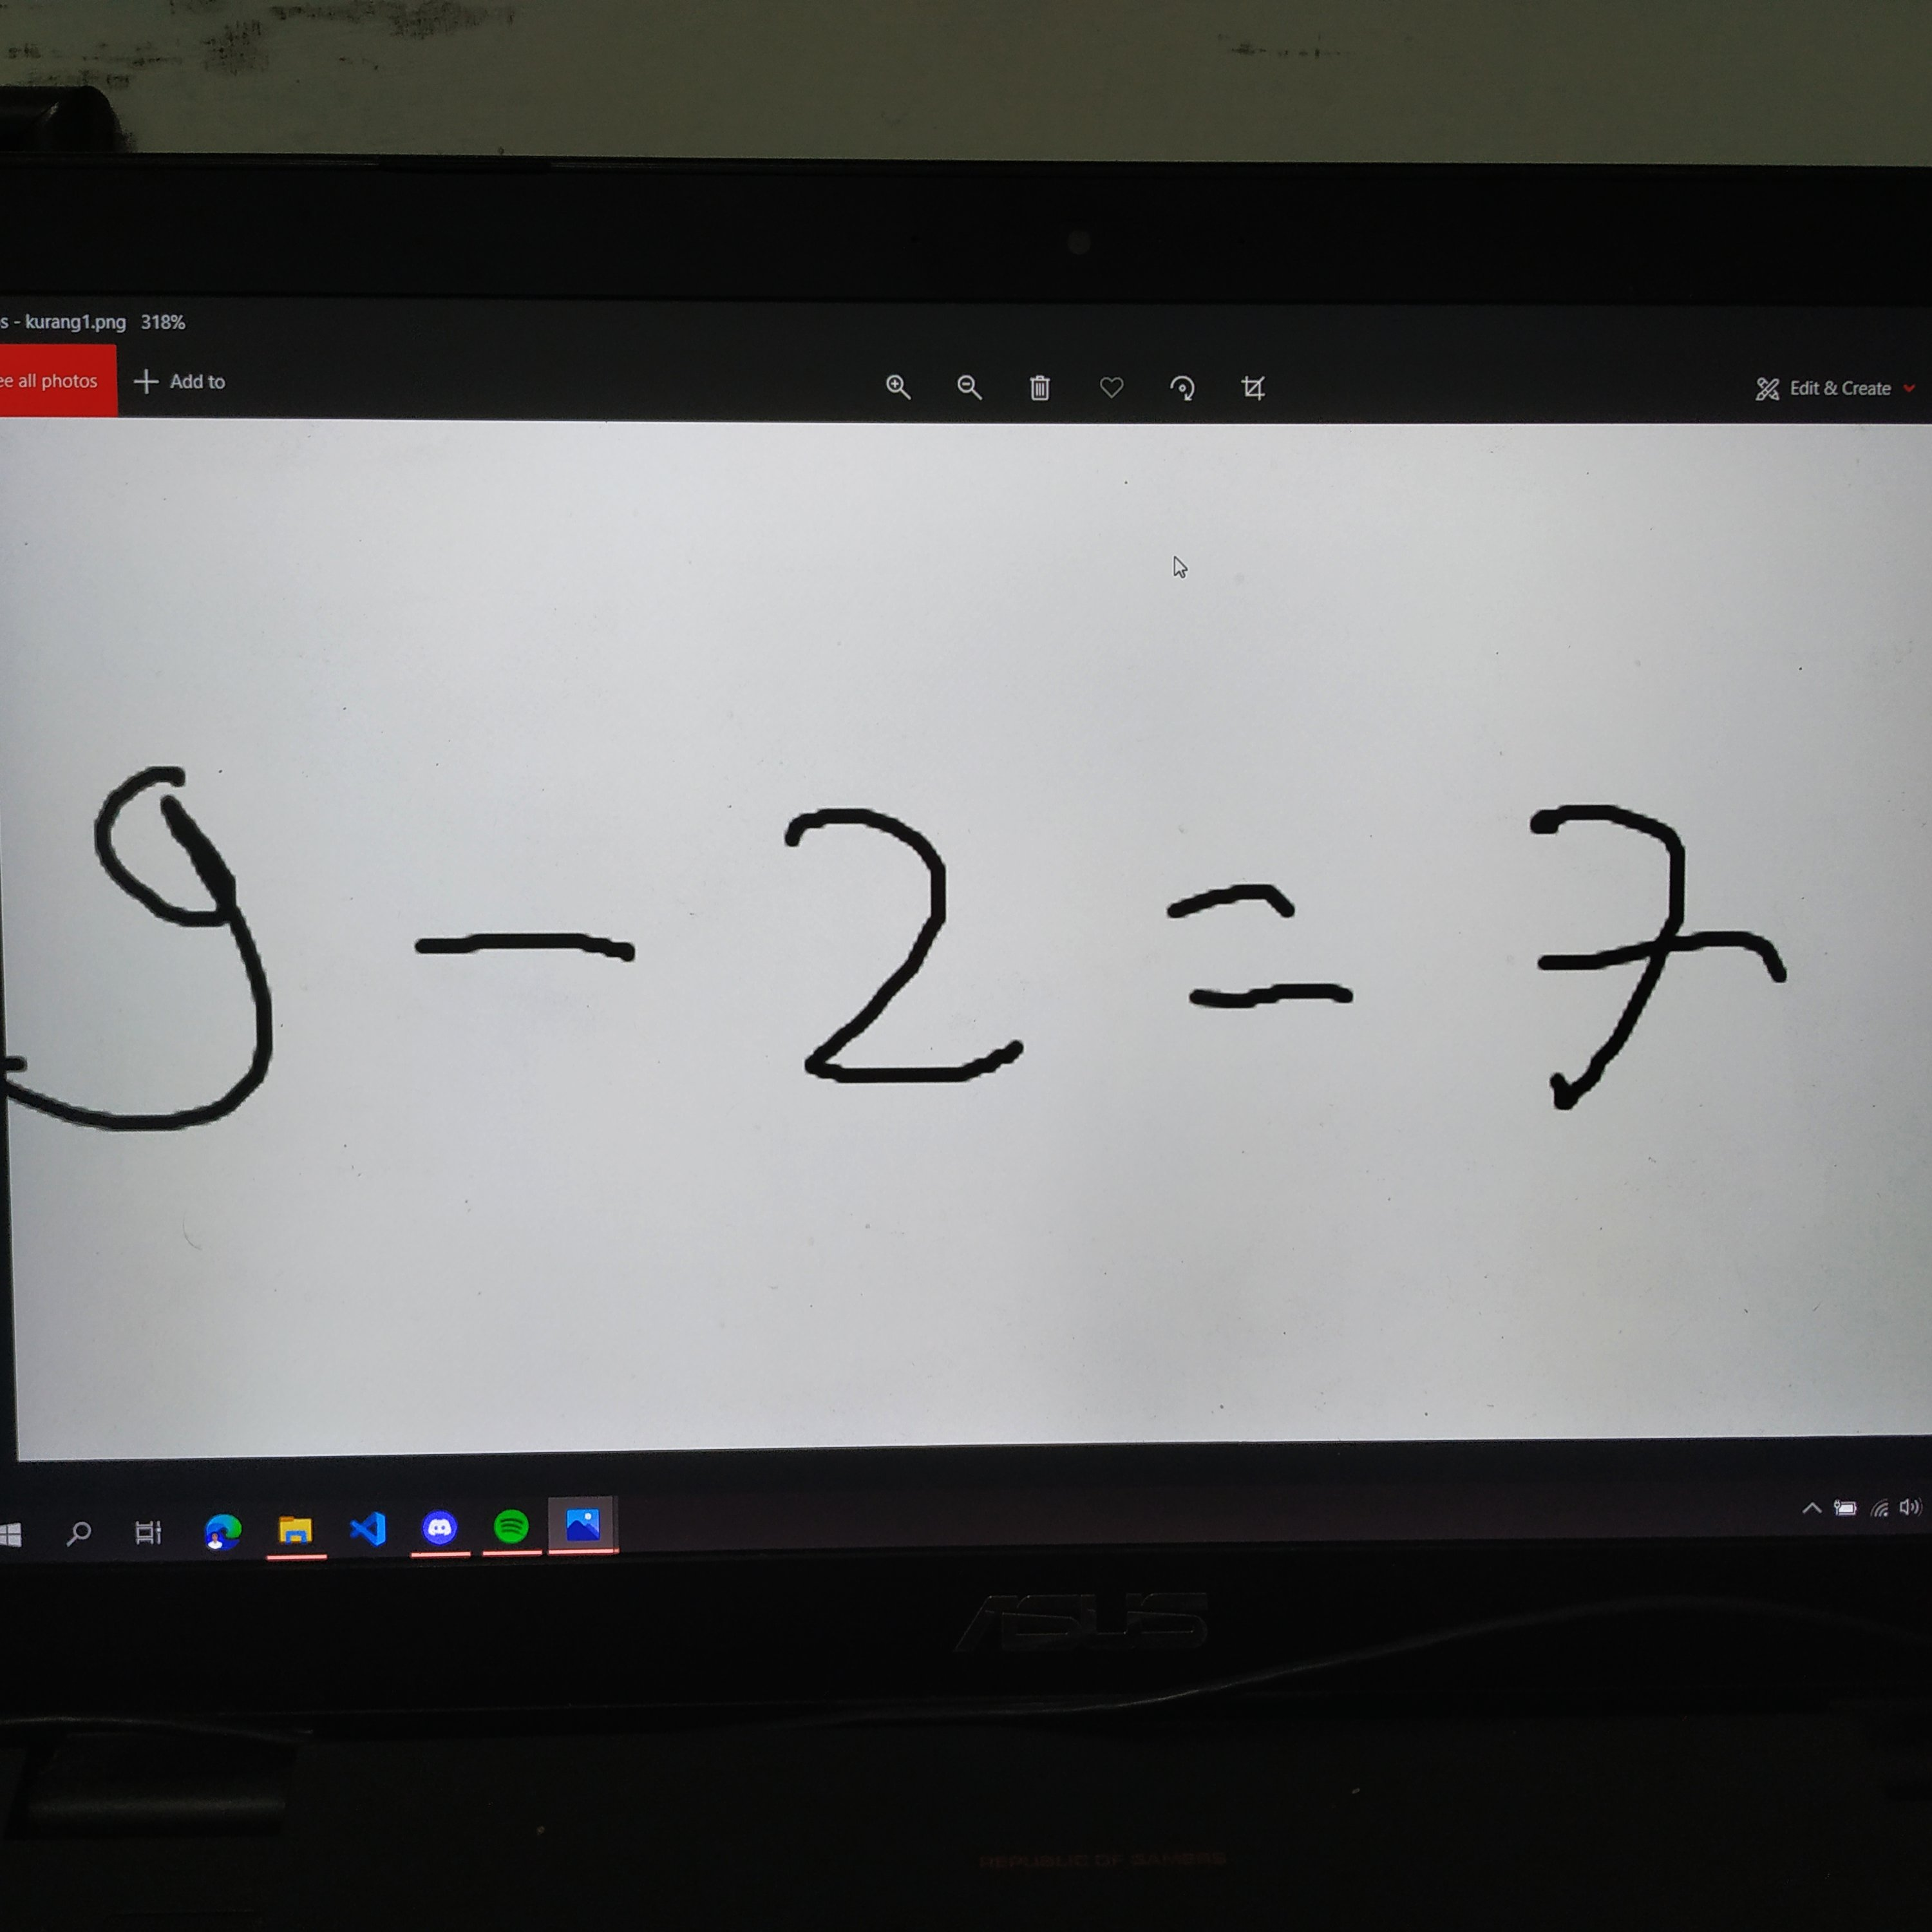equal: (1147, 864, 1382, 1030)
min: (397, 887, 659, 999)
num2: (744, 789, 1074, 1122)
num7: (1488, 779, 1831, 1141)
num9: (3, 748, 323, 1171)
